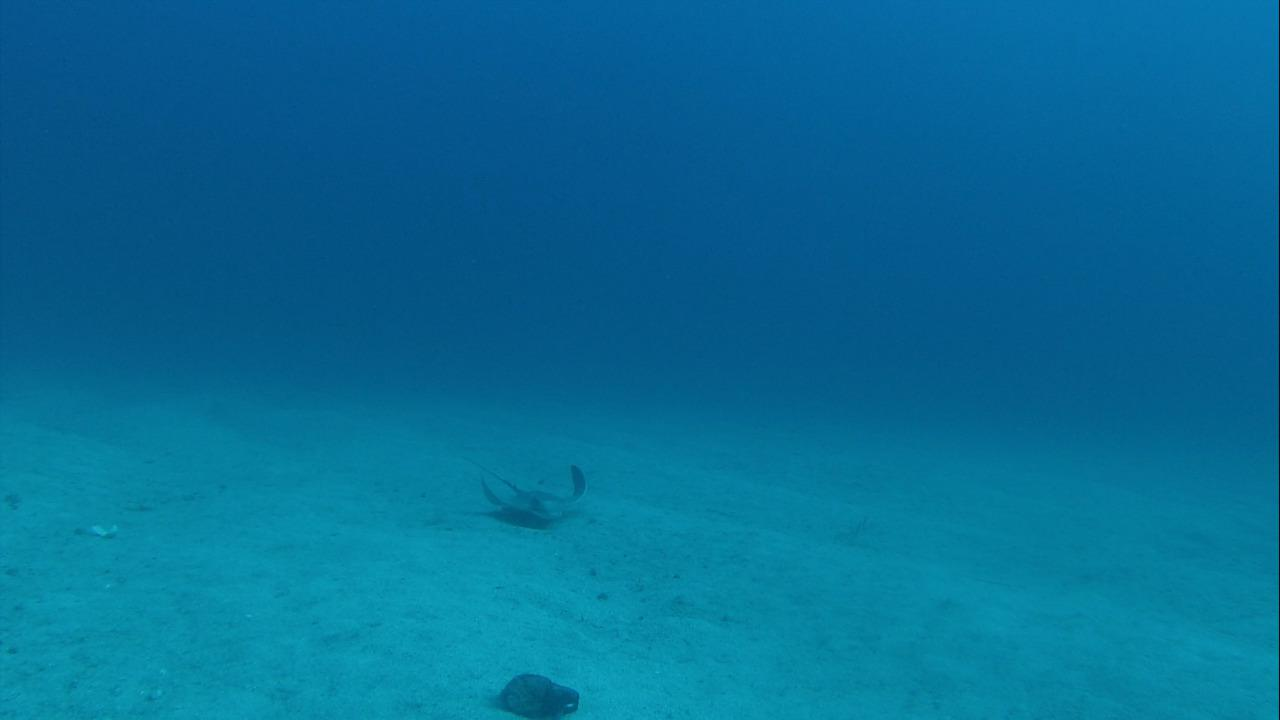myliobatis: (448, 461, 592, 529)
